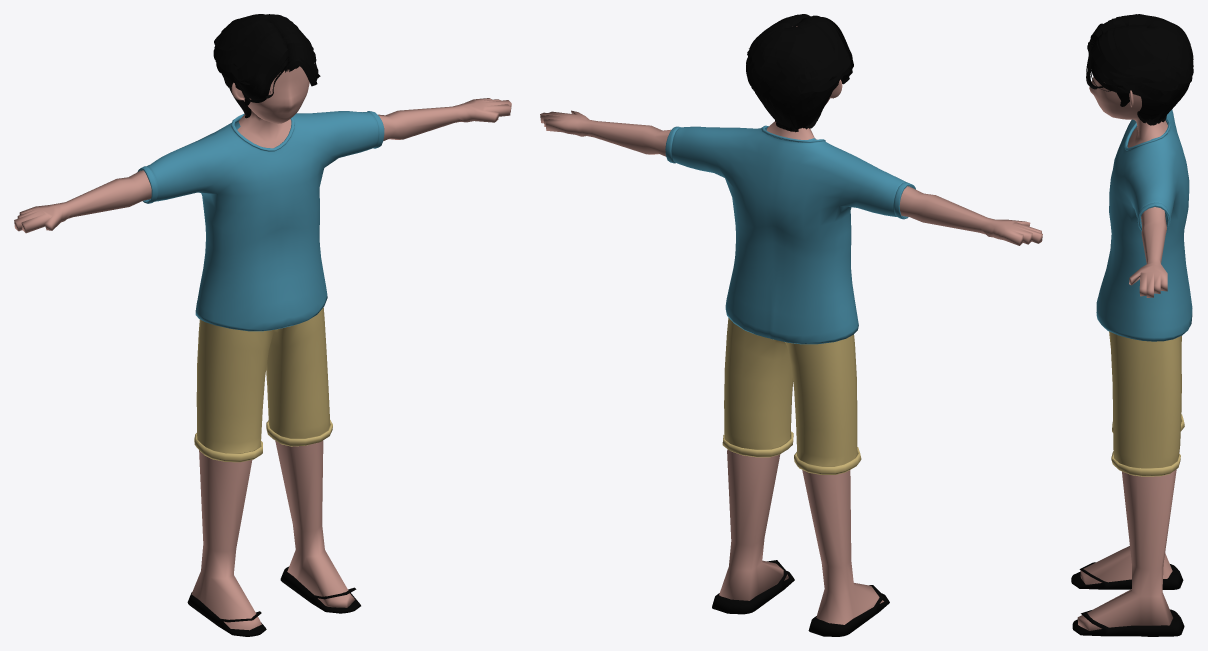
3 views of the same model, side by side, from view 1: azimuth 30°, elevation 25°; view 2: azimuth 150°, elevation 25°; view 3: azimuth 270°, elevation 25° (orthographic).
Parts seen in each view (by area): view 1: Cube.064, Cube.051, Cube.065, basemesh22.011, Cube.084, Cube.083; view 2: Cube.064, Cube.051, Cube.065, basemesh22.011, Cube.084, Cube.083; view 3: Cube.064, Cube.051, Cube.065, basemesh22.011, Cube.084, Cube.083.
Boxes of the visible parts, x1,y1,x2,y2 form: Cube.064: [137, 111, 384, 331]; Cube.051: [14, 66, 511, 630]; Cube.065: [194, 307, 332, 462]; basemesh22.011: [213, 14, 320, 118]; Cube.084: [280, 566, 360, 613]; Cube.083: [187, 592, 266, 636]; Cube.064: [665, 125, 915, 344]; Cube.051: [540, 26, 1042, 624]; Cube.065: [722, 317, 861, 474]; basemesh22.011: [746, 14, 853, 132]; Cube.084: [712, 560, 794, 614]; Cube.083: [808, 585, 889, 636]; Cube.064: [1096, 109, 1192, 341]; Cube.051: [1077, 77, 1176, 630]; Cube.065: [1109, 331, 1184, 476]; basemesh22.011: [1086, 14, 1193, 125]; Cube.084: [1072, 609, 1184, 636]; Cube.083: [1071, 562, 1183, 589].
Bounding box in the file's own units: 2.31 × 2.6 × 0.4939.
